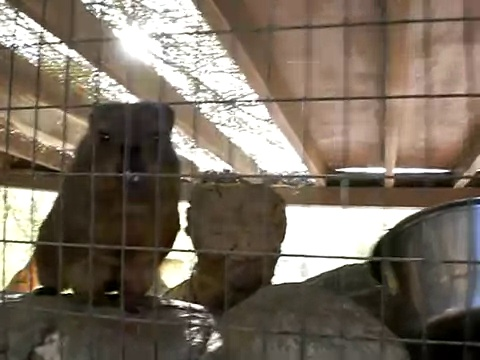Rock Hyrex: (37, 101, 176, 311)
